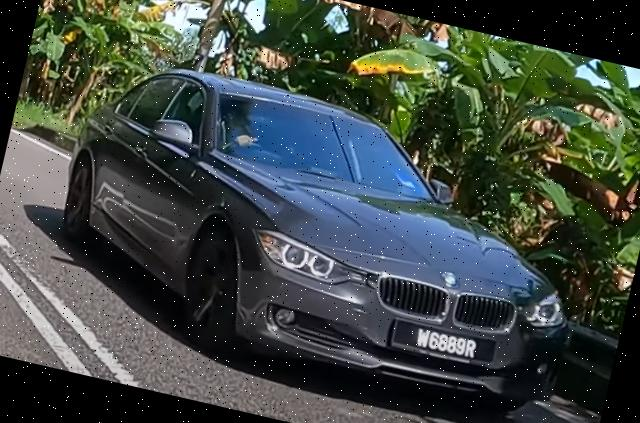License_Plate: (414, 324, 481, 361)
car: (36, 43, 610, 423)
